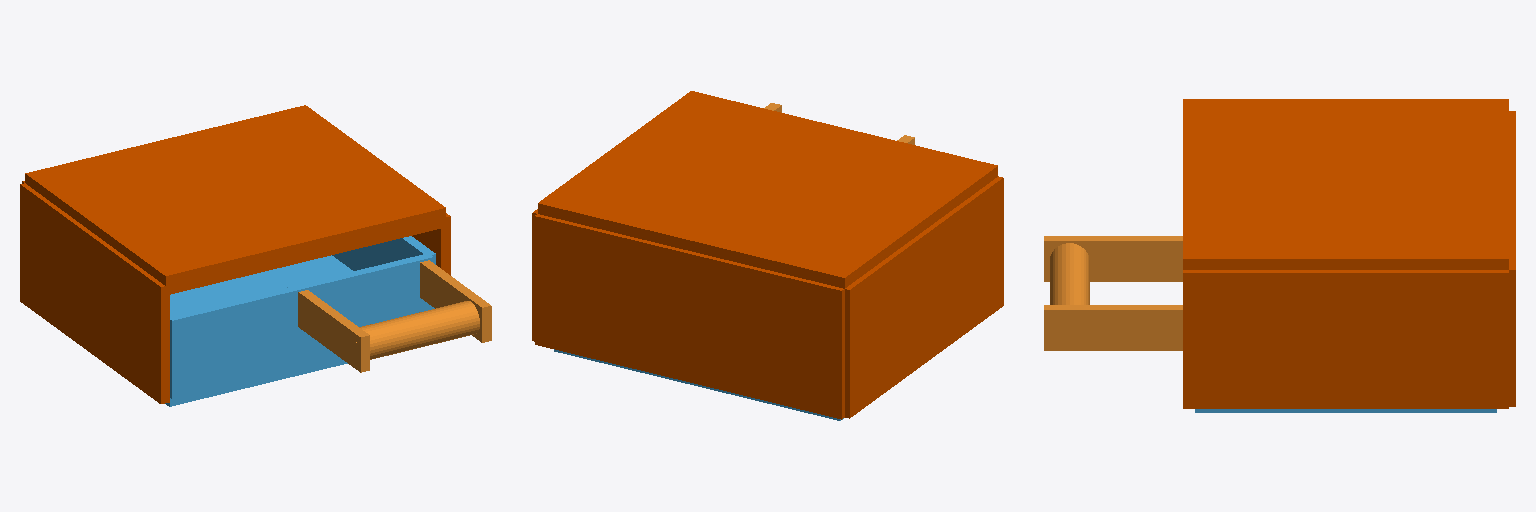
robot.urdf — bowl.urdf:
<?xml version="0.0" ?>
<robot name="bowl.urdf">

  <material name="yellow">
    <color rgba="1 1 0.4 1"/>
  </material>
  <material name="red">
    <color rgba="1 0 0 1"/>
  </material>
  <material name="blue">
    <color rgba=".17 .20 .38 1"/>
  </material>
  <material name="teal">
    <color rgba="0 .5 .5 1"/>
  </material>
  <material name="orange">
    <color rgba=".93 .6 .23 1"/>
  </material>

  <link name="world"/>

  <link name="base">
    <contact>
      <rolling_friction value="10.0"/>
      <lateral_friction value="10.0"/>
      <spinning_friction value="10.0"/>
    </contact>
    <inertial>
      <origin rpy="0 0 0" xyz="0.0 0.0 0.0"/>
       <mass value="0.1"/>
       <inertia ixx="1" ixy="0" ixz="0" iyy="1" iyz="0" izz="1"/>
    </inertial>
    <visual>
      <origin rpy="0 0 0" xyz="0 0 -0.2"/>
      <geometry>
        <box size="1.4 1.2 .1"/>
      </geometry>
    </visual>
    <visual>
      <!-- right -->
      <origin rpy="0 0 0" xyz="0 -.6 0"/>
      <geometry>
        <box size="1.4 .05 0.4"/>
      </geometry>
    </visual>
    <visual>
      <!-- left -->
      <origin rpy="0 0 0" xyz="0 .6 0"/>
      <geometry>
        <box size="1.4 .05 0.4"/>
      </geometry>
    </visual>
    <visual>
      <!-- front -->
      <origin rpy="0 0 0" xyz=".7 0 0"/>
      <geometry>
        <box size=".05 1.2 0.4"/>
      </geometry>
    </visual>
    <visual>
      <!-- back -->
      <origin rpy="0 0 0" xyz="-.7 0 0"/>
      <geometry>
        <box size=".05 1.2 0.4"/>
      </geometry>
    </visual>

    <collision>
      <!--Bottom --> 
      <origin rpy="0 0 0" xyz="0 0 -.2"/>
      <geometry>
        <box size="1.4 1.2 .1"/>
      </geometry>
    </collision>
    <collision>
      <!-- right -->
      <origin rpy="0 0 0" xyz="0 -.6 0"/>
      <geometry>
        <box size="1.4 .05 0.4"/>
      </geometry>
    </collision>
    <collision>
      <!-- left -->
      <origin rpy="0 0 0" xyz="0 .6 0"/>
      <geometry>
        <box size="1.4 .05 0.4"/>
      </geometry>
    </collision>
    <collision>
      <!-- front -->
      <origin rpy="0 0 0" xyz=".7 0 0"/>
      <geometry>
        <box size=".05 1.2 0.4"/>
      </geometry>
    </collision>
    <collision>
      <!-- back -->
      <origin rpy="0 0 0" xyz="-.7 0 0"/>
      <geometry>
        <box size=".05 1.2 0.4"/>
      </geometry>
    </collision>
  </link>

  <link name="handle_r">
    <contact>
      <rolling_friction value="1000.0"/>
      <lateral_friction value="1000.0"/>
      <!-- lateral_friction was key to not making the gripper slide on the handle--> 
      <spinning_friction value="1000.0"/>
      <contact_cfm value="0.0"/>
      <contact_erp value="1.0"/>
    </contact>
    <inertial>
      <origin rpy="0 1.57 0" xyz="0 0 0"/>
      <mass value=".1"/>
      <inertia ixx="1" ixy="0" ixz="0" iyy="1" iyz="0" izz="1"/>
    </inertial>
    <visual>
      <origin rpy="0 1.57 0" xyz="0 0 0"/>
      <geometry>
        <cylinder radius="0.08" length="0.7"/>
      </geometry>
      <material name="orange"/>
    </visual>
    <collision>
      <origin rpy="0 1.57 0" xyz="0 0 0"/>
      <geometry>
        <cylinder radius="0.08" length="0.7"/>
      </geometry>
    </collision>
  </link>

  <link name="handle_plate_far">
    <contact>
      <rolling_friction value="1000.0"/>
      <lateral_friction value="1000.0"/>
      <spinning_friction value="1000.0"/>
      <contact_cfm value="0.0"/>
      <contact_erp value="1.0"/>
    </contact>
    <inertial>
      <origin rpy="0 1.57 0" xyz="0 0 0"/>
      <mass value=".1"/>
      <inertia ixx="1" ixy="0" ixz="0" iyy="1" iyz="0" izz="1"/>
    </inertial>
    <visual>
      <origin rpy="0 0 0" xyz="0 0 0"/>
      <geometry>
        <box size=".05 .6 .18"/>
      </geometry>
      <material name="orange"/>
    </visual>
    <collision>
      <origin rpy="0 0 0" xyz="0 0 0"/>
      <geometry>
        <box size=".05 .6 .18"/>
      </geometry>
    </collision>
  </link>

  <link name="handle_plate_near">
    <contact>
      <rolling_friction value="1000.0"/>
      <lateral_friction value="1000.0"/>
      <spinning_friction value="1000.0"/>
      <contact_cfm value="0.0"/>
      <contact_erp value="1.0"/>
    </contact>
    <inertial>
      <origin rpy="0 1.57 0" xyz="0 0 0"/>
      <mass value=".1"/>
      <inertia ixx="1" ixy="0" ixz="0" iyy="1" iyz="0" izz="1"/>
    </inertial>
    <visual>
      <origin rpy="0 0 0" xyz="0 0 0"/>
      <geometry>
        <box size=".05 .6 .18"/>
      </geometry>
      <material name="orange"/>
    </visual>
    <collision>
      <origin rpy="0 0 0" xyz="0 0 0"/>
      <geometry>
        <box size=".05 .6 .18"/>
      </geometry>
    </collision>
  </link>

  <link name="frame">
    <contact>
      <lateral_friction value="0.5"/>
      <rolling_friction value="0.0"/>
      <contact_cfm value="0.0"/>
      <contact_erp value="1.0"/>
    </contact>
    <inertial>
      <origin rpy="0 0 0" xyz="0.0 0.0 0.0"/>
       <mass value=".1"/>
       <inertia ixx="1" ixy="0" ixz="0" iyy="1" iyz="0" izz="1"/>
    </inertial>
    <visual>
      <!--Top-->
      <origin rpy="0 0 0" xyz="0 0 .3"/>
      <geometry>
        <box size="1.5 1.3 .1"/>
      </geometry>
    </visual>
    <visual>
      <!--Right-->
      <origin rpy="0 0 0" xyz="0 .65 0"/>
      <geometry>
        <box size="1.5 .05 .6"/>
      </geometry>
    </visual>
    <visual>
      <!--Front-->
      <origin rpy="0 0 0" xyz=".75 0 0"/>
      <geometry>
        <box size=".05 1.3 .6"/>
      </geometry>
    </visual>
    <visual>
      <!--Back-->
      <origin rpy="0 0 0" xyz="-.75 0 0"/>
      <geometry>
        <box size=".05 1.3 .6"/>
      </geometry>
    </visual>

    <collision>
      <!--Top-->
      <origin rpy="0 0 0" xyz="0 0 .3"/>
      <geometry>
        <box size="1.5 1.3 .1"/>
      </geometry>
    </collision>
    <collision>
      <!--Right-->
      <origin rpy="0 0 0" xyz="0 .65 0"/>
      <geometry>
        <box size="1.5 .05 .6"/>
      </geometry>
    </collision>
    <collision>
      <!--Front-->
      <origin rpy="0 0 0" xyz=".75 0 0"/>
      <geometry>
        <box size=".05 1.3 .6"/>
      </geometry>
    </collision>
    <collision>
      <!--Back-->
      <origin rpy="0 0 0" xyz="-.75 0 0"/>
      <geometry>
        <box size=".05 1.3 .6"/>
      </geometry>
    </collision>
  </link>

  <joint name="frame_joint" type="fixed">
    <parent link="world"/>
    <child link="frame"/>
  </joint>

  <joint name="base_frame_joint" type="prismatic">
    <origin rpy="0 0 0" xyz="0 0 -.1"/>
    <parent link="frame"/>
    <child link="base"/>
    <axis rpy="0 0 0" xyz="0 1 0"/>
    <limit effort="100" lower="-1.25" upper="0" velocity="100"/>
    <dynamics damping="0.0" friction=".01"/>
  </joint>

  <joint name="handle_plate_far_joint" type="fixed">
    <origin rpy="0 0 0" xyz="0 -0.9 0.1"/>
    <parent link="base"/>
    <child link="handle_plate_far"/>
  </joint>

  <joint name="handle_plate_near_joint" type="fixed">
    <origin rpy="0 0 0" xyz="0.65 -0.9 0.1"/>
    <parent link="base"/>
    <child link="handle_plate_near"/>
  </joint>

  <joint name="handle_r_joint" type="fixed">
    <origin rpy="0 0 0" xyz="0.325 -1.1 0.1"/>
    <parent link="base"/>
    <child link="handle_r"/>
  </joint>

</robot>

--- Render facts (derived) ---
The picture shows the robot from 3 angles, left to right: view 1: azimuth 30°, elevation 25°; view 2: azimuth 150°, elevation 25°; view 3: azimuth 270°, elevation 25°; orthographic projection.
Robot: bowl.urdf — 6 links, 5 joints (1 prismatic, 4 fixed); root link world; default pose: all joints at 0.
Links seen in each view (by area): view 1: frame, base, handle_r, handle_plate_far, handle_plate_near; view 2: frame, base; view 3: frame, handle_plate_near, handle_plate_far, handle_r, base.
Link boxes in pixels (x1,y1,x2,y2): frame: [20, 105, 450, 403]; base: [165, 236, 435, 406]; handle_r: [341, 301, 479, 359]; handle_plate_far: [298, 290, 369, 372]; handle_plate_near: [420, 260, 491, 342]; frame: [532, 91, 1003, 419]; base: [554, 349, 843, 420]; frame: [1183, 99, 1515, 408]; handle_plate_near: [1044, 305, 1182, 350]; handle_plate_far: [1044, 236, 1182, 281]; handle_r: [1050, 243, 1089, 347]; base: [1195, 409, 1496, 412].
Bounding box of the posed robot: 1.55 × 1.88 × 0.7 m (x, y, z).
Geometry: primitives only (box / cylinder / sphere), no mesh files.